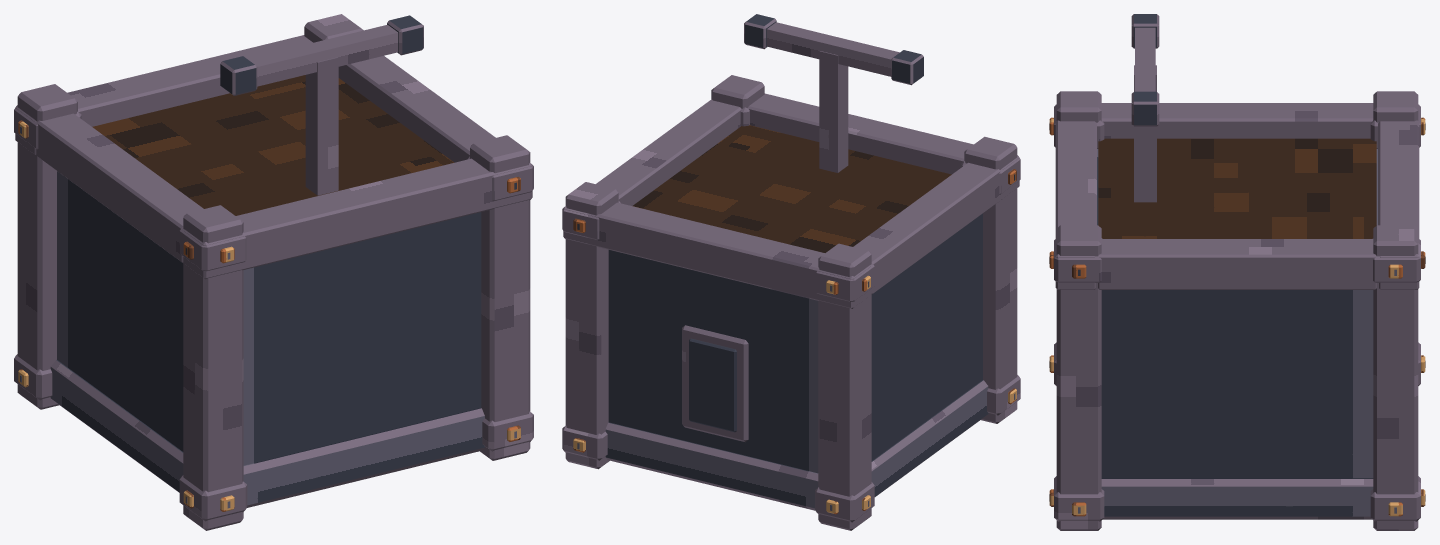
Rendered from placed_reinforced_pot.obj.
3 renders of one model, left to right at view 1: azimuth 30°, elevation 25°; view 2: azimuth 150°, elevation 25°; view 3: azimuth 270°, elevation 25°, orthographic. The views are drawn at different scales.
Visible parts, largest first — view 1: model; view 2: model; view 3: model.
Part boxes in pixels (box(x1,y1,x2,y2)): model: box(14, 14, 533, 530); model: box(562, 14, 1020, 530); model: box(1049, 14, 1425, 530).
Bounding box in the file's own units: 1.02 × 1.19 × 1.02.
